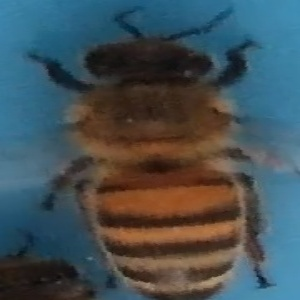bee: (35, 10, 285, 300), (2, 231, 102, 300)
